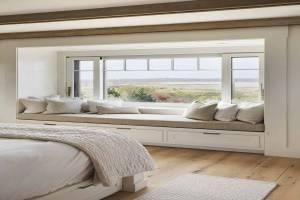window: (63, 54, 263, 110)
